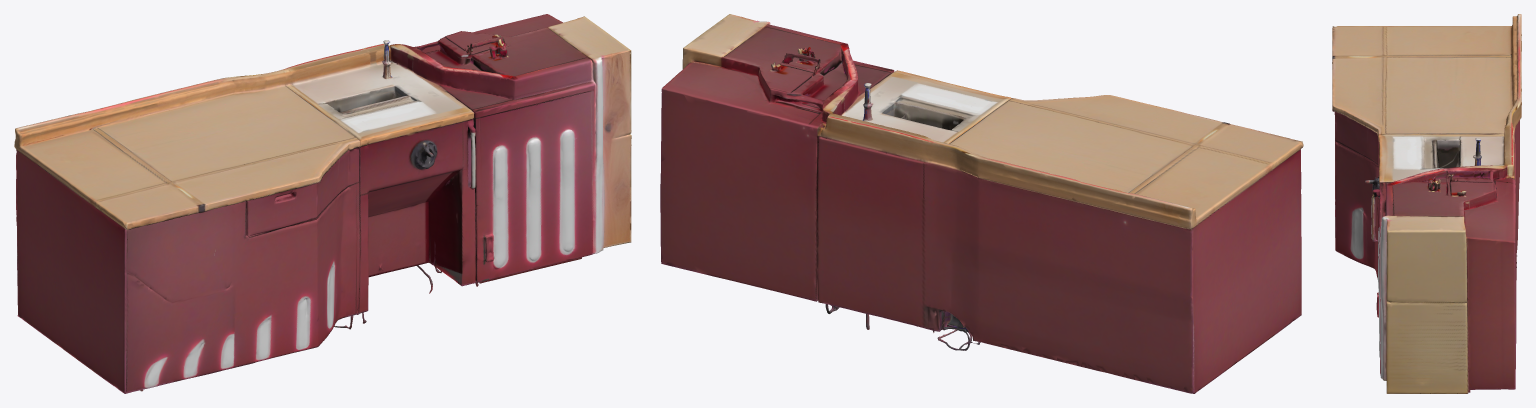
The model's file is machine.glb.
The picture shows the model from 3 angles, left to right: view 1: azimuth 30°, elevation 25°; view 2: azimuth 150°, elevation 25°; view 3: azimuth 270°, elevation 25°; orthographic projection. The views are drawn at different scales.
Size of the model in its own units: 2 by 0.8143 by 0.7225.
1 material, 1 textured.
